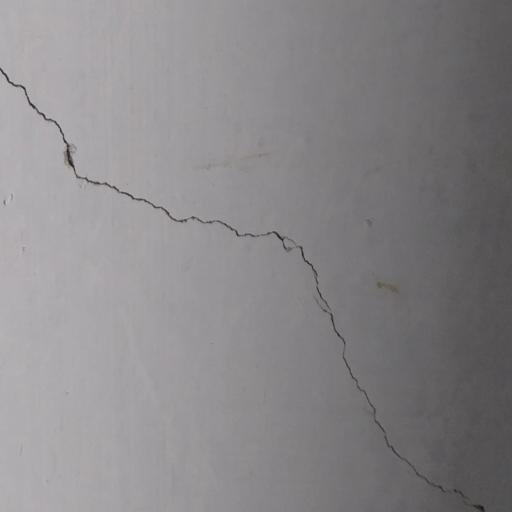minor_crack: (0, 49, 499, 511)
